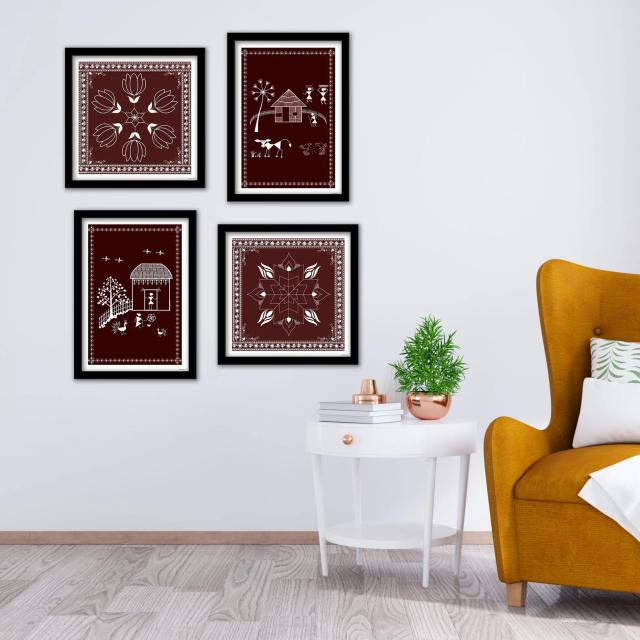painting: (227, 32, 353, 204), (73, 209, 198, 380), (215, 223, 360, 366), (63, 45, 207, 188)
